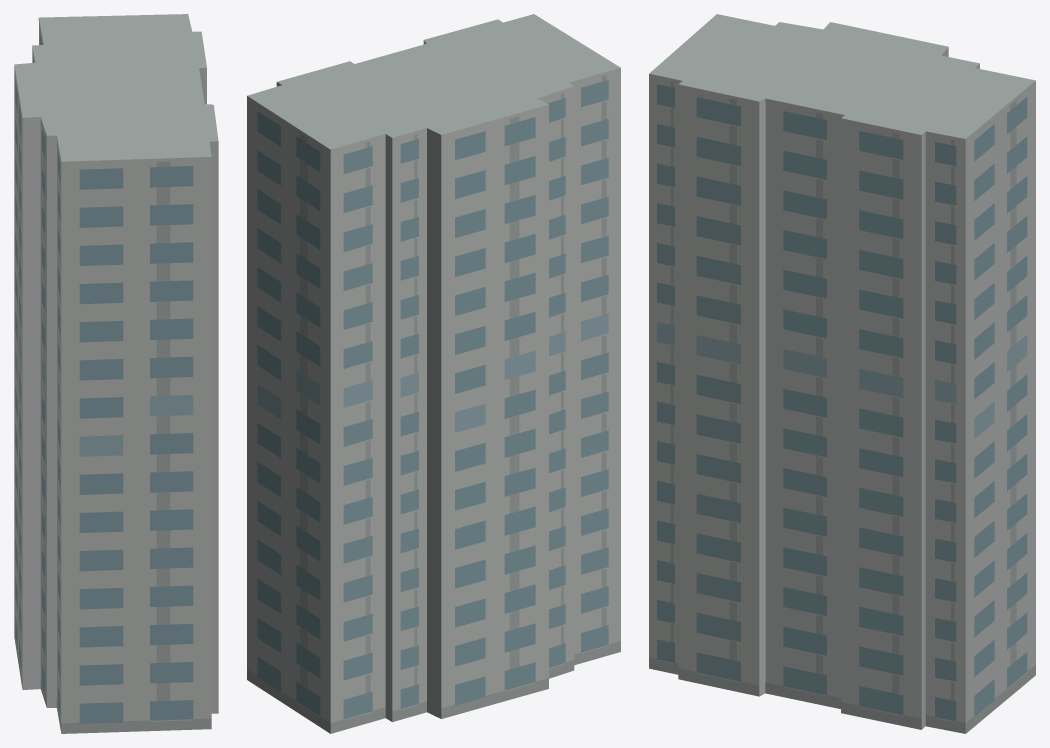
The model's file is residential-0a320c2e-4b52-4cc9-8b98-5f4c74eea4c5.glb.
3 renders of one model, left to right at view 1: azimuth 30°, elevation 25°; view 2: azimuth 150°, elevation 25°; view 3: azimuth 270°, elevation 25°, orthographic. The views are drawn at different scales.
Parts seen in each view (by area): view 1: residential-0a320c2e-4b52-4cc9-8b98-5f4c74eea4c5.tmp; view 2: residential-0a320c2e-4b52-4cc9-8b98-5f4c74eea4c5.tmp; view 3: residential-0a320c2e-4b52-4cc9-8b98-5f4c74eea4c5.tmp.
Part boxes in pixels (x1,y1,x2,y2): residential-0a320c2e-4b52-4cc9-8b98-5f4c74eea4c5.tmp: (14,14,218,733); residential-0a320c2e-4b52-4cc9-8b98-5f4c74eea4c5.tmp: (247,14,620,733); residential-0a320c2e-4b52-4cc9-8b98-5f4c74eea4c5.tmp: (649,14,1035,733).
Bounding box in the file's own units: 20.29 × 45 × 26.53.
